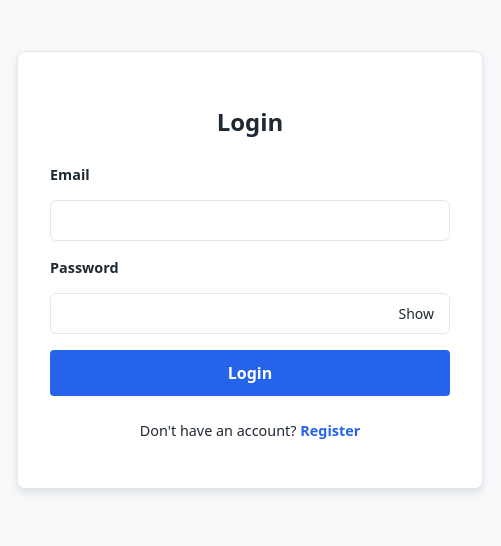
Scenario: LoginPage Component › Error Handling Tests (Hata Yönetimi Testleri) › Hatalı girişte hata mesajı gösterilmeli
The image size is (501, 546).
Type "wrong@test.com" into the field labelled "Email" at {"x": 250, "y": 220}, box [50,200,450,241]
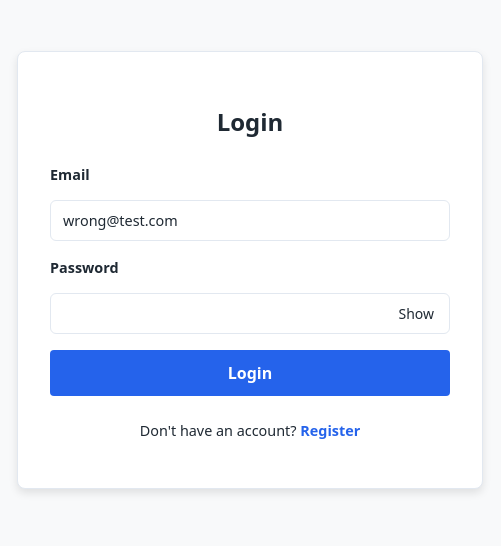
Type "wrongpass" into the password field labelled "Password" at {"x": 250, "y": 313}, box [50,293,450,334]
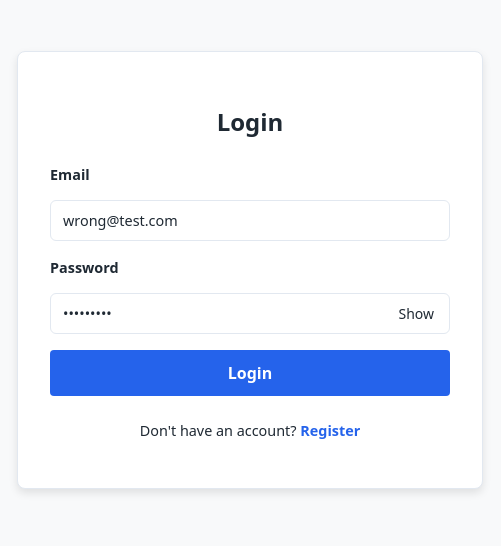
Click the button "Login" at {"x": 250, "y": 373}, box [50,350,450,396]
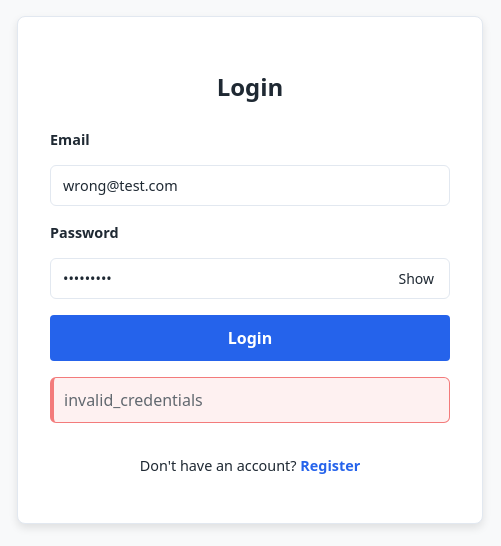
Check: the text "invalid_credentials" is shown, box [50,377,450,423]
